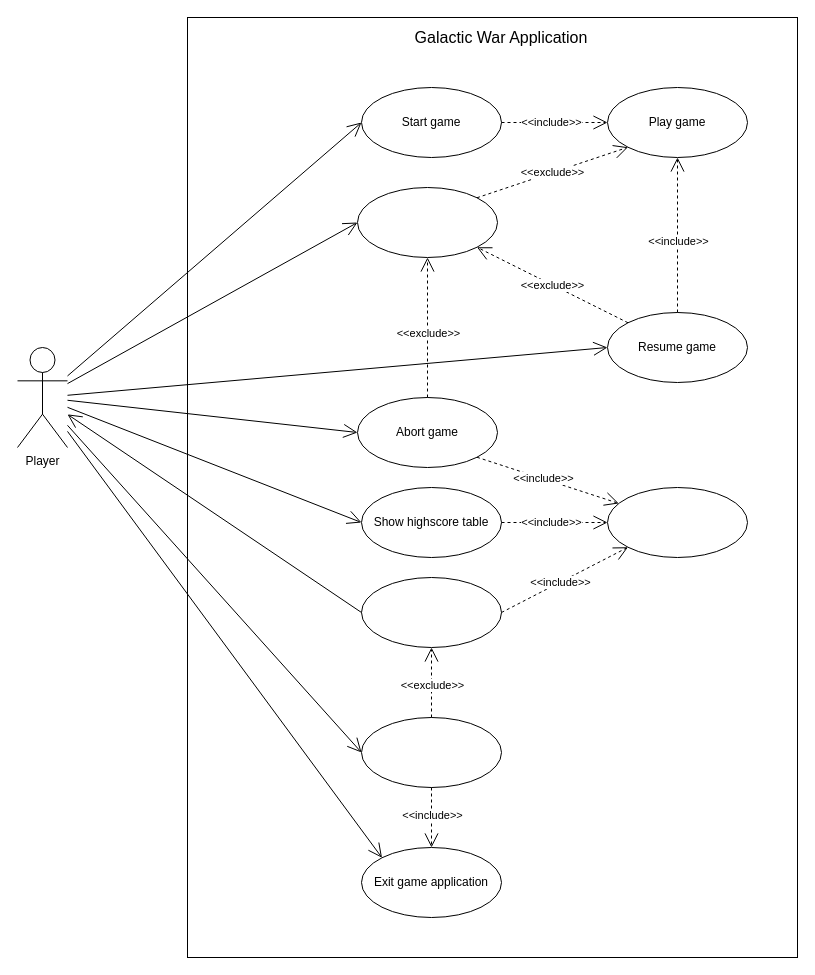
The diagram is 815 pixels wide and 975 high, and some of its shapes have lost their labels. The shapes that lost their labels are listed below. From the top down, each one's centre as x and y in pixels, then its label:
point 427,222: Pause game
point 677,522: Back to menu
point 431,612: Game over
point 431,752: Save new palyer score
